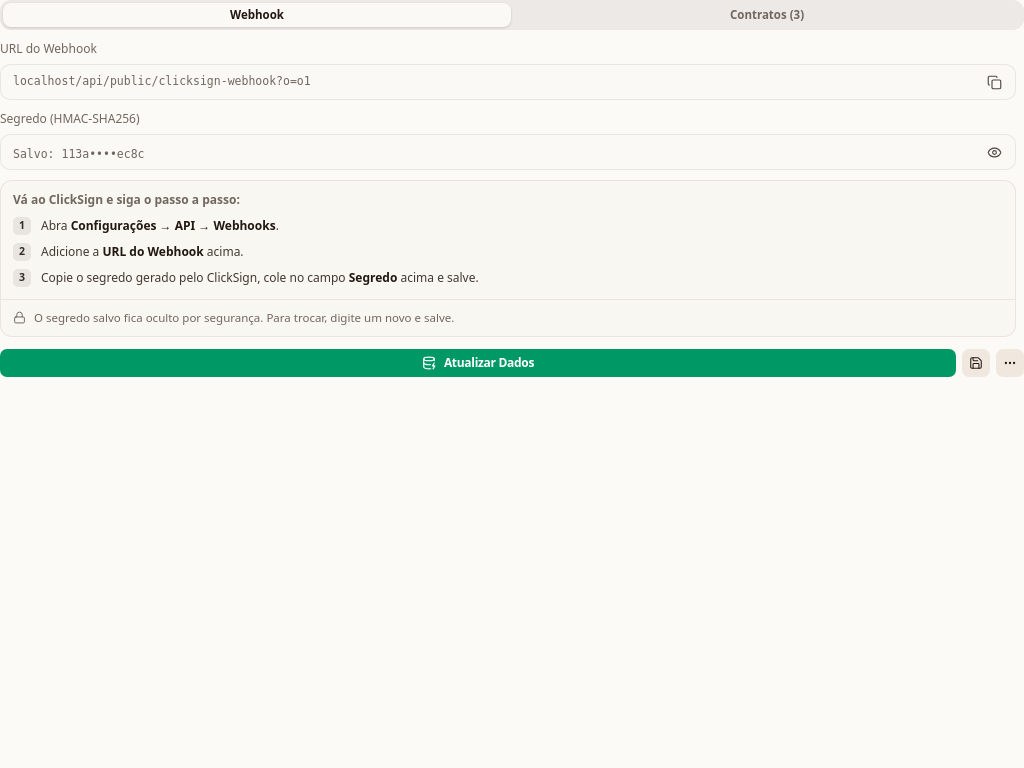
Test: ClickSign — janela refeita › com contratante sem cadastro, abre Novos Cadastros (Possível Duplicata)
Click the button "Atualizar Dados" at (478, 363), box x1=0 y1=349 x2=956 y2=377
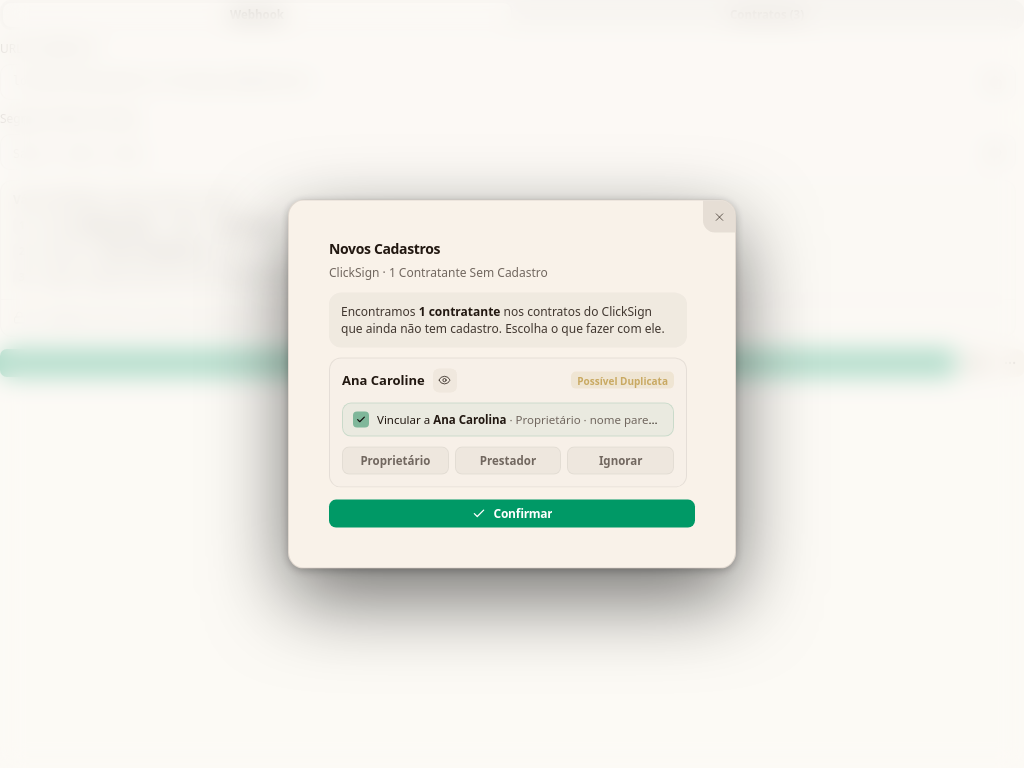
Now the heading "Novos Cadastros" is shown, box x1=329 y1=239 x2=440 y2=258
Now the text "Possível Duplicata" is shown, box x1=571 y1=372 x2=674 y2=389
Now the button named "Ver Contrato" is shown, box x1=433 y1=368 x2=457 y2=392
